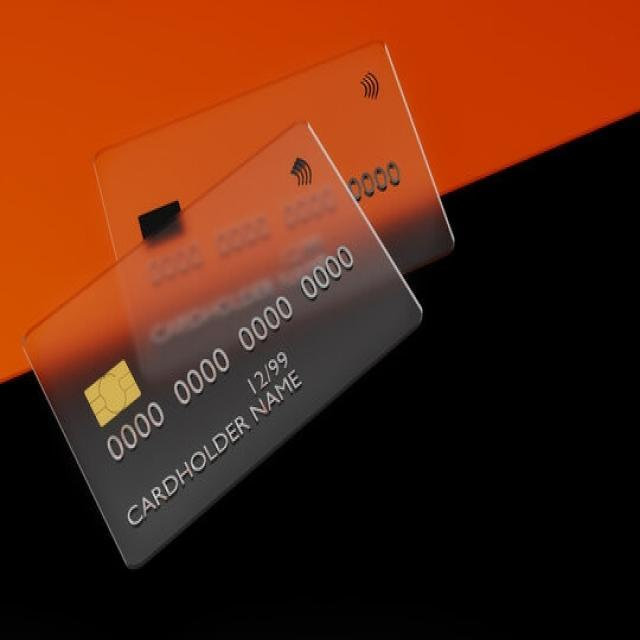payment_card: (20, 117, 425, 570)
